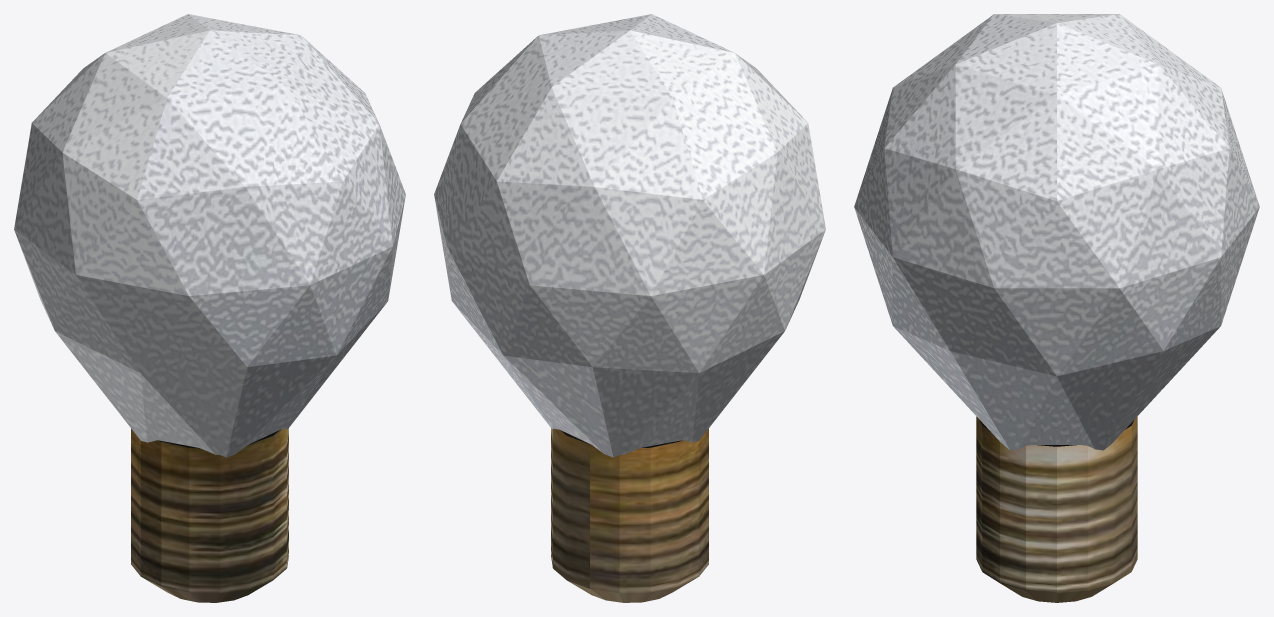
Rendered from lightbulb.obj.
The picture shows the model from 3 angles, left to right: view 1: azimuth 30°, elevation 25°; view 2: azimuth 150°, elevation 25°; view 3: azimuth 270°, elevation 25°; orthographic projection.
Visible parts, largest first — view 1: Icosphere, Cylinder; view 2: Icosphere, Cylinder; view 3: Icosphere, Cylinder.
Boxes of the visible parts, bbox=[...] form: Icosphere: bbox=[14, 14, 405, 457]; Cylinder: bbox=[131, 428, 288, 602]; Icosphere: bbox=[434, 14, 825, 457]; Cylinder: bbox=[551, 428, 708, 602]; Icosphere: bbox=[854, 14, 1259, 450]; Cylinder: bbox=[976, 416, 1137, 602].
Bounding box in the file's own units: 1.17 × 1.86 × 1.23.
2 materials, 2 textured.
